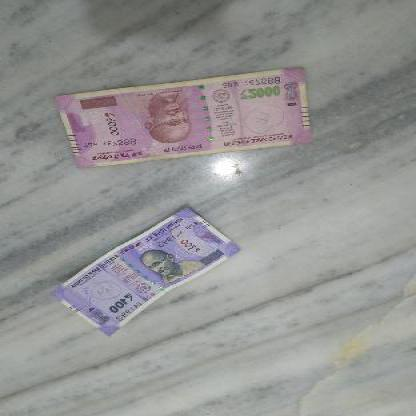New100Front: (51, 212, 242, 336)
New2000Front: (61, 70, 317, 168)
